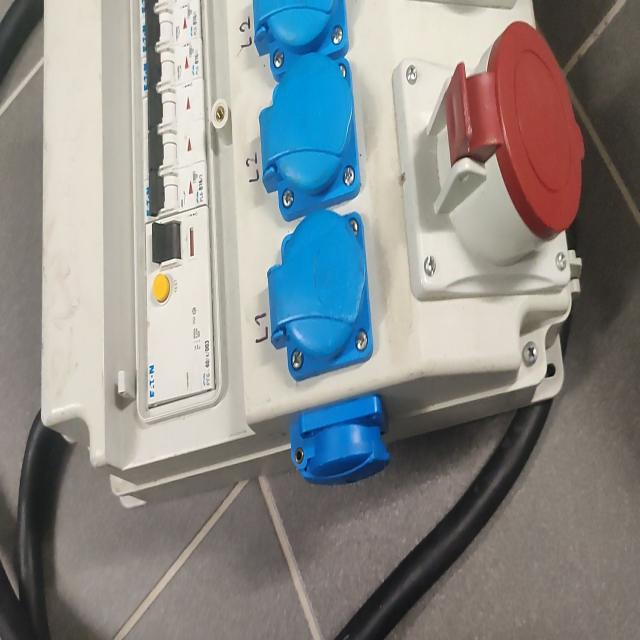400v socket: (390, 18, 585, 302)
house plug covered: (266, 210, 374, 383), (261, 54, 360, 222), (288, 393, 391, 486), (252, 0, 349, 82)
